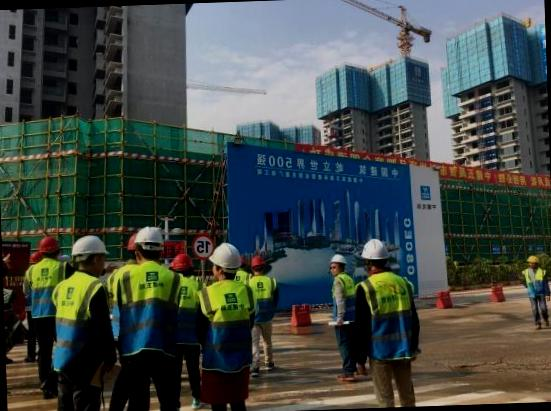helmet: (69, 233, 110, 258), (209, 241, 245, 267), (134, 224, 168, 247), (362, 236, 391, 261), (35, 234, 60, 253), (328, 252, 345, 266)
person: (45, 228, 118, 411), (113, 213, 178, 411), (356, 232, 418, 406), (200, 241, 259, 411), (23, 229, 71, 411), (165, 252, 204, 411), (322, 251, 362, 389), (246, 250, 279, 377), (522, 252, 545, 326)
